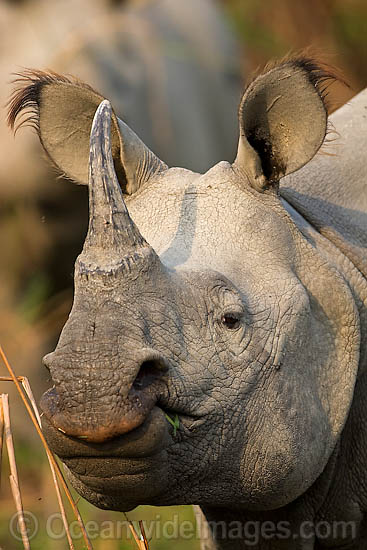rhinoceros: (9, 44, 367, 542)
